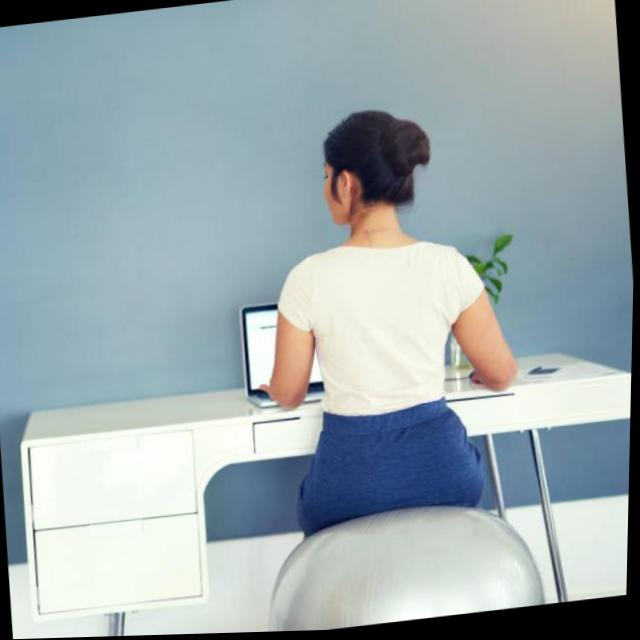no helmet: (314, 102, 438, 240)
